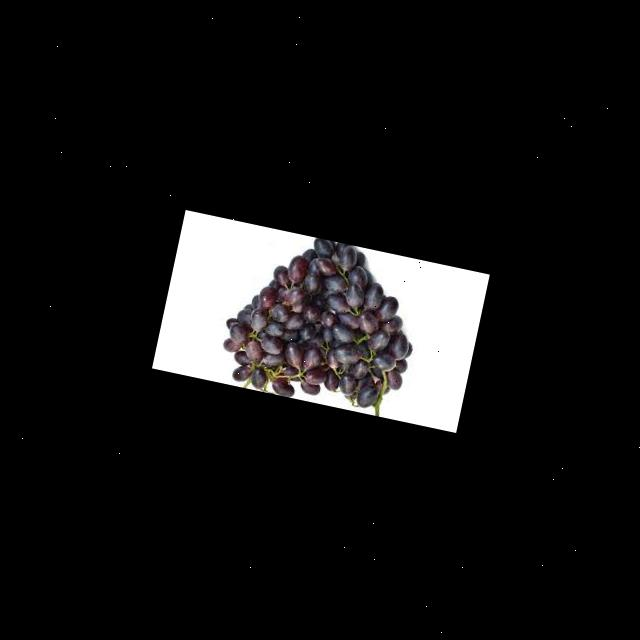grape: (212, 222, 430, 419)
